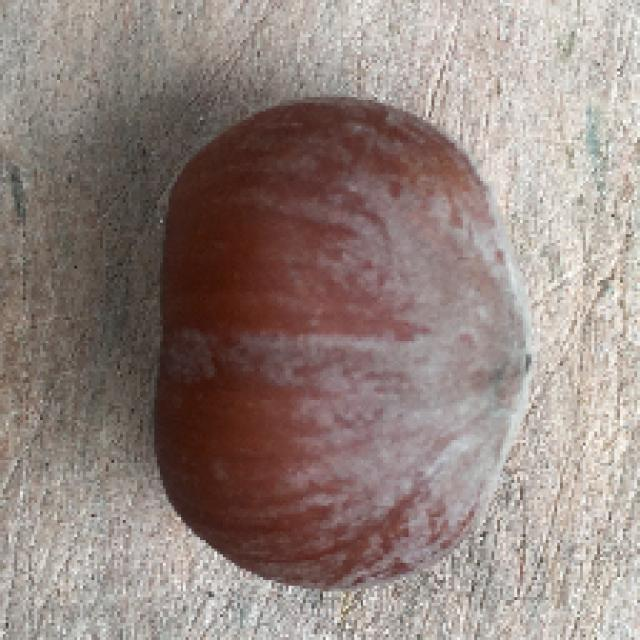qualityHazelnut: (134, 93, 539, 588)
